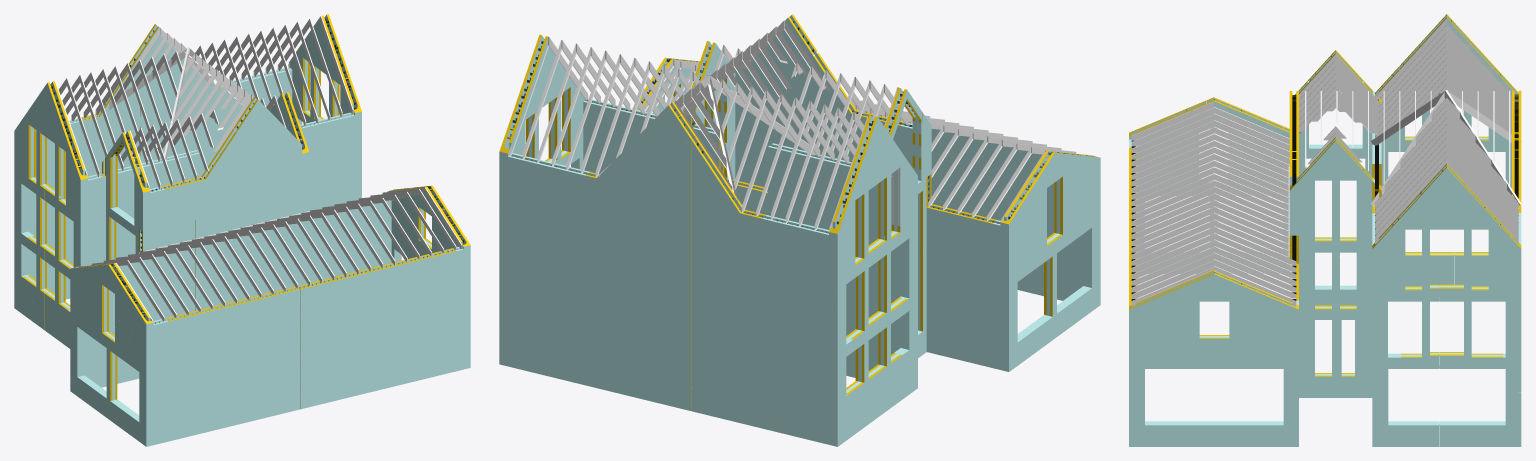
Rendered from ES26-056_Mr_S.Choudhary.glb.
The picture shows the model from 3 angles, left to right: view 1: azimuth 30°, elevation 25°; view 2: azimuth 150°, elevation 25°; view 3: azimuth 270°, elevation 25°; orthographic projection. The views are drawn at different scales.
Visible parts, largest first — view 1: Geom3D (×74); view 2: Geom3D (×96), Geom3D_TLSID4364907; view 3: Geom3D (×44), 3DGeom-17674, Geom3D_TLSID4364907, Geom3D_TLSID4356540, Geom3D_TLSID4356474, Geom3D_TLSID4356480, Geom3D_TLSID4356536, Geom3D_TLSID4356546, Geom3D_TLSID4356550, Geom3D_TLSID4356552, Geom3D_TLSID4356556, Geom3D_TLSID4356558 (+72 smaller).
Part boxes in pixels (x1,y1,x2,y2): Geom3D (×74): (143, 127, 456, 441); Geom3D (×96): (516, 131, 992, 442); Geom3D_TLSID4364907: (705, 75, 816, 155); Geom3D (×44): (1147, 159, 1503, 446); 3DGeom-17674: (1292, 20, 1518, 235); Geom3D_TLSID4364907: (1371, 90, 1447, 145); Geom3D_TLSID4356540: (1131, 160, 1213, 199); Geom3D_TLSID4356474: (1131, 107, 1213, 146); Geom3D_TLSID4356480: (1131, 127, 1213, 166); Geom3D_TLSID4356536: (1131, 147, 1213, 186); Geom3D_TLSID4356546: (1131, 180, 1213, 219); Geom3D_TLSID4356550: (1131, 194, 1213, 232); Geom3D_TLSID4356552: (1131, 200, 1213, 239); Geom3D_TLSID4356556: (1131, 213, 1213, 252); Geom3D_TLSID4356558: (1131, 220, 1213, 259).
Size of the model in its own units: 16.03 by 11.82 by 15.03.
